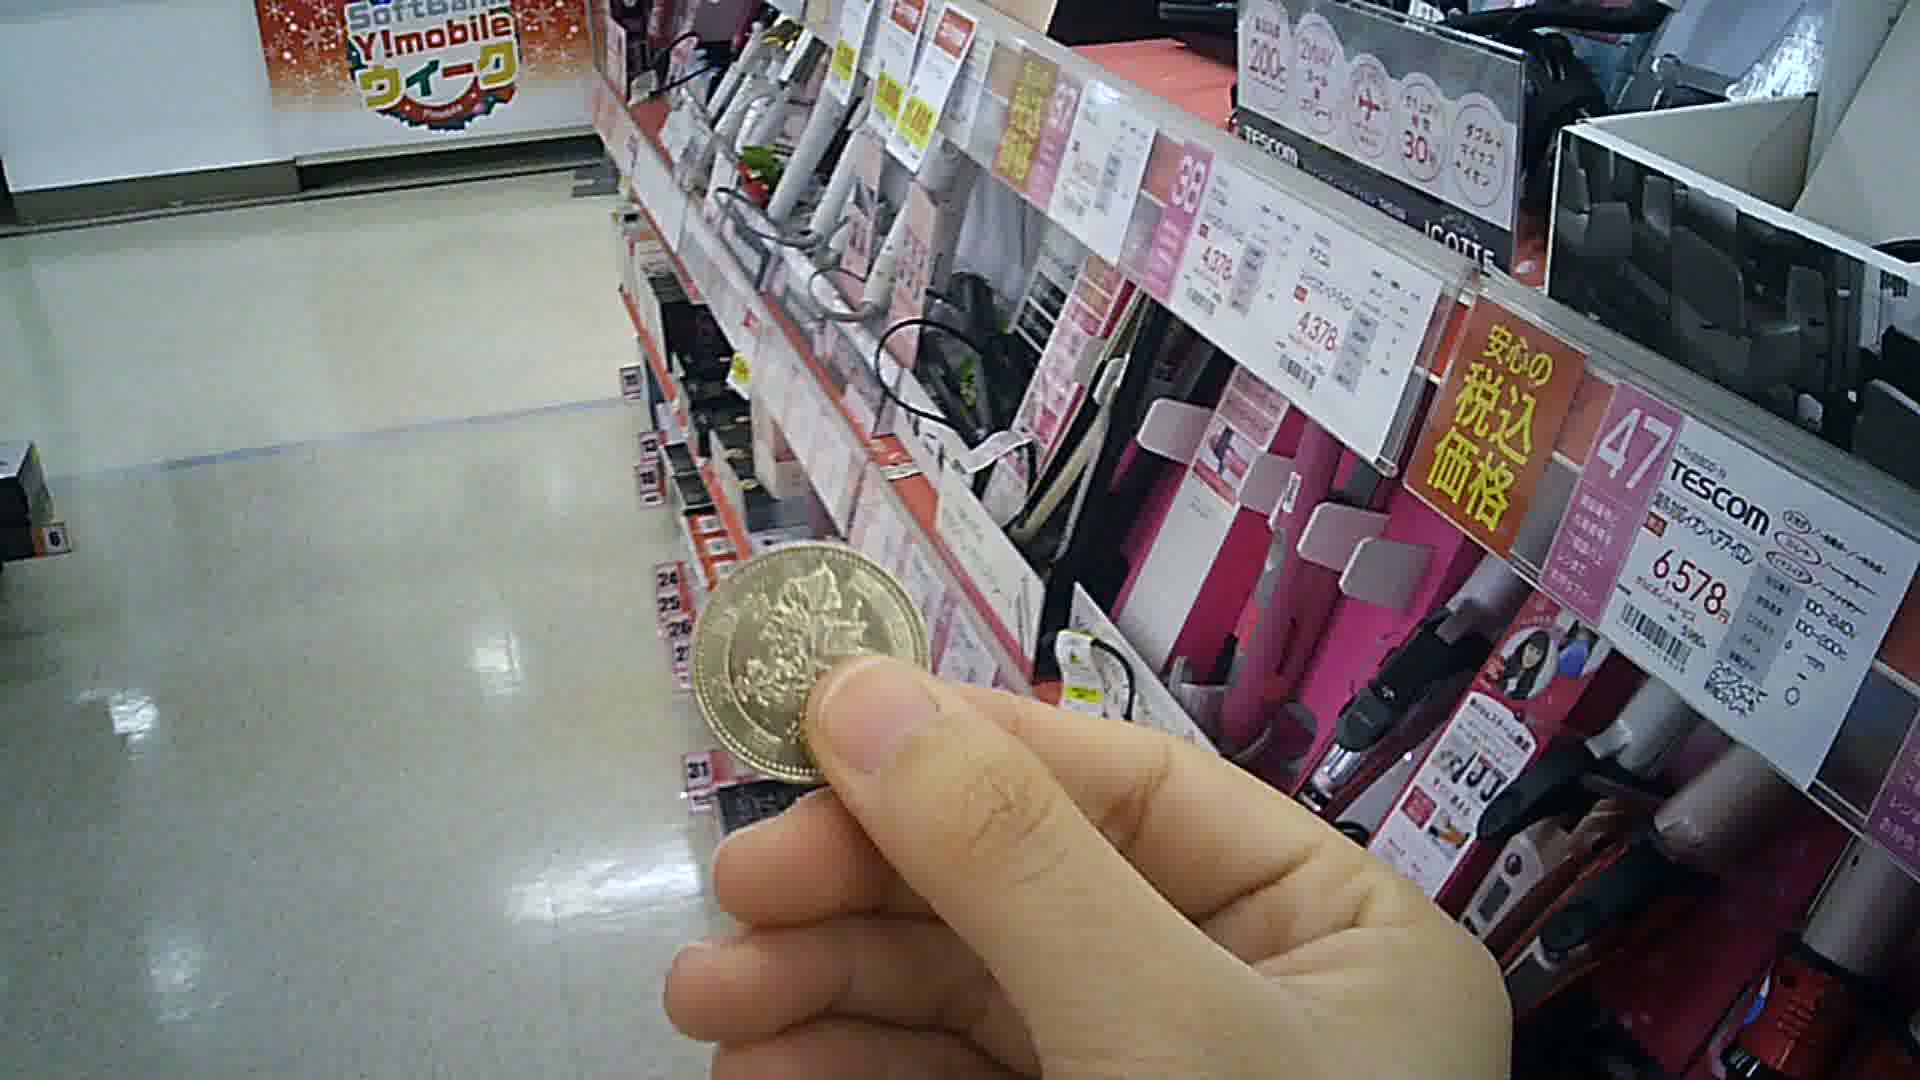500 Yen: (692, 527, 939, 787)
